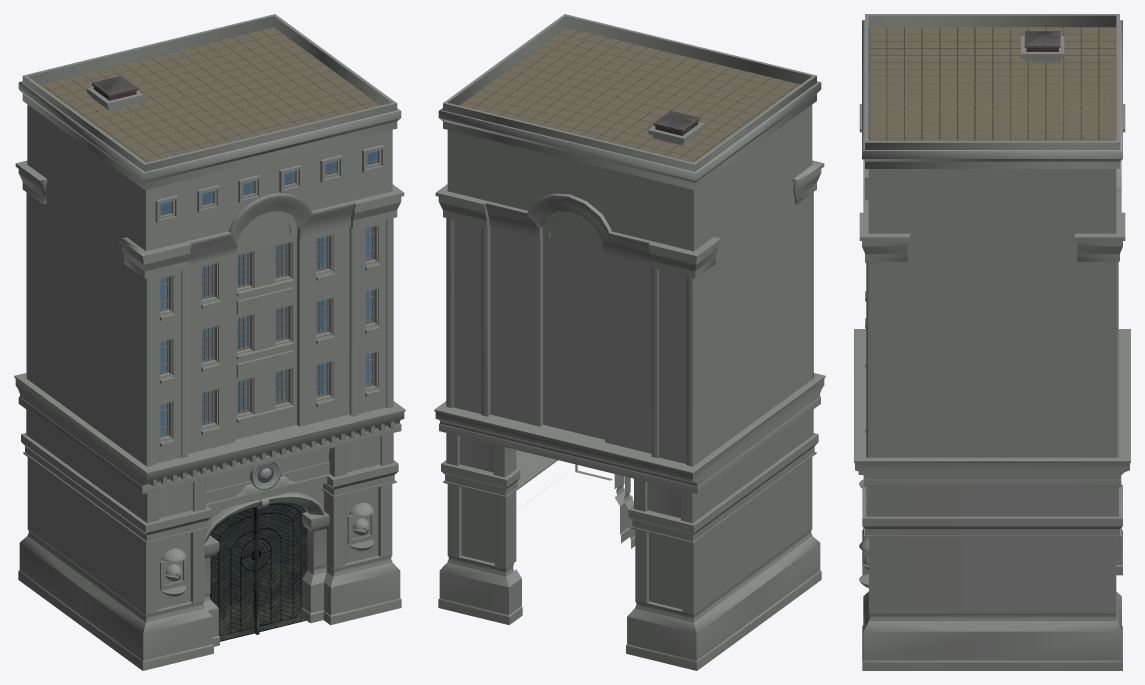
File: t1_b_gate_building.glb
The picture shows the model from 3 angles, left to right: view 1: azimuth 30°, elevation 25°; view 2: azimuth 150°, elevation 25°; view 3: azimuth 270°, elevation 25°; orthographic projection. The views are drawn at different scales.
Visible parts, largest first — view 1: um_t1_b_gate_building_model_t1_b_gate_building_modelShape; view 2: um_t1_b_gate_building_model_t1_b_gate_building_modelShape; view 3: um_t1_b_gate_building_model_t1_b_gate_building_modelShape.
Part boxes in pixels (box(x1,y1,x2,y2)): um_t1_b_gate_building_model_t1_b_gate_building_modelShape: box(14, 14, 405, 670); um_t1_b_gate_building_model_t1_b_gate_building_modelShape: box(434, 14, 825, 670); um_t1_b_gate_building_model_t1_b_gate_building_modelShape: box(854, 14, 1130, 670).
Size of the model in its own units: 13.44 by 25.38 by 11.81.
Materials: 5 (2 with a texture image).
